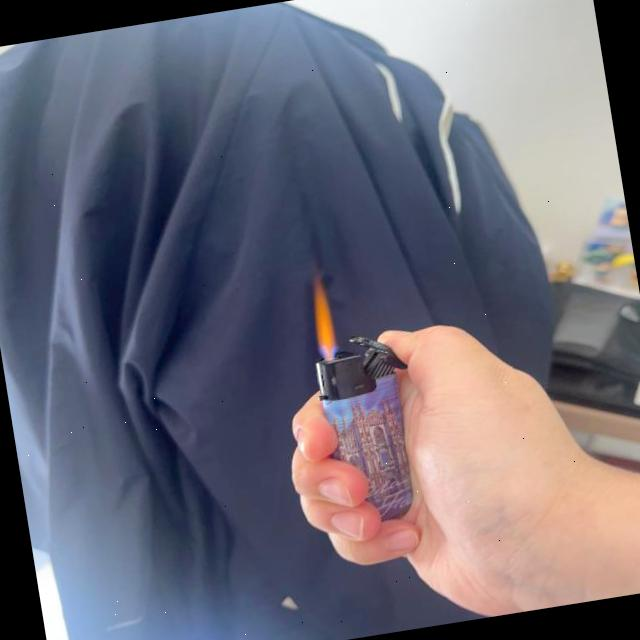fire: (305, 282, 342, 360)
